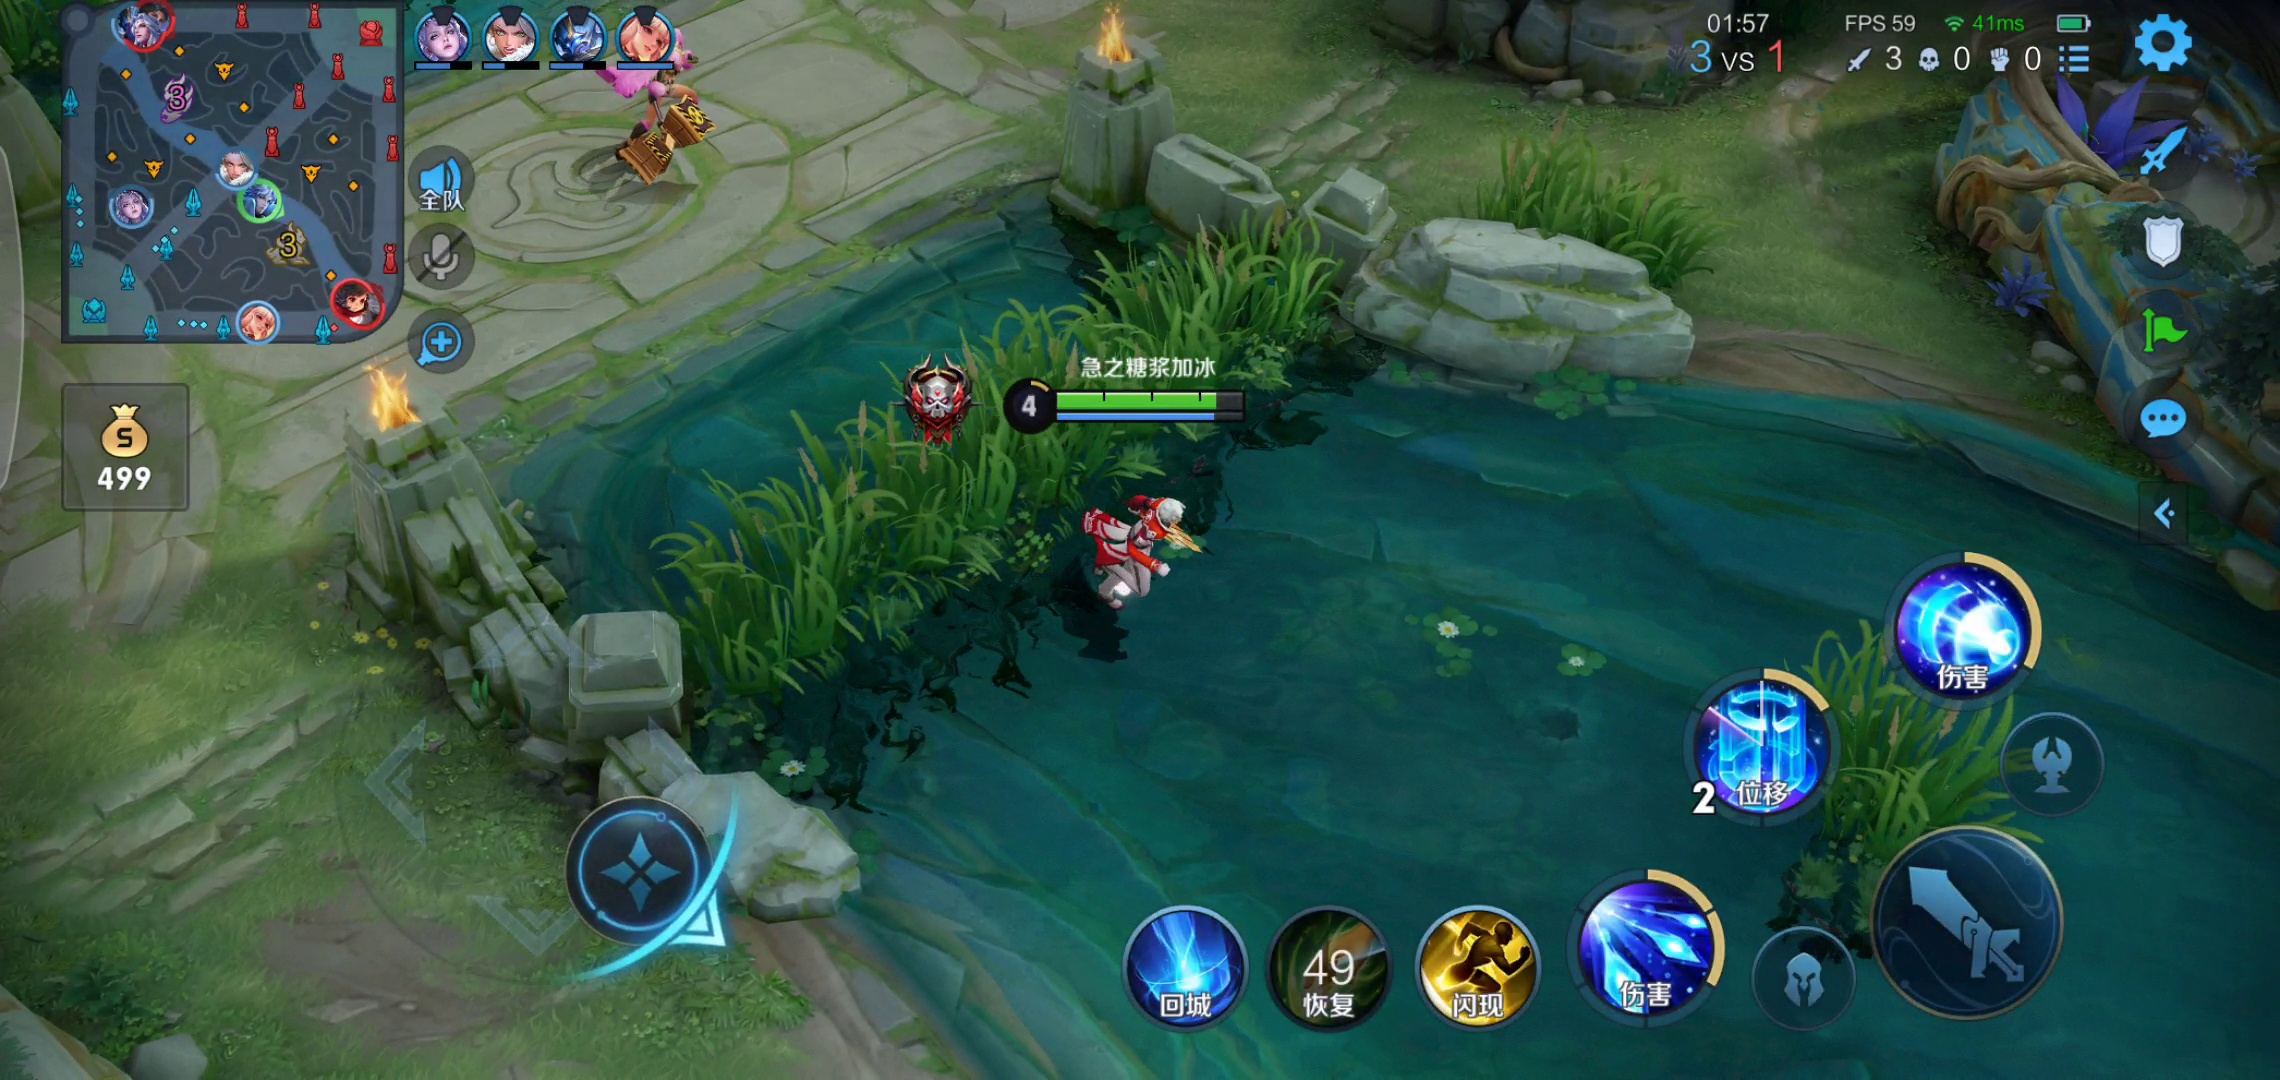grass: (656, 231, 1339, 737), (1745, 635, 2036, 924), (1477, 129, 1703, 291)
hero: (579, 28, 715, 185), (1072, 480, 1195, 632)
